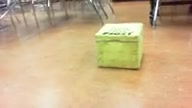cube: (96, 23, 142, 70)
